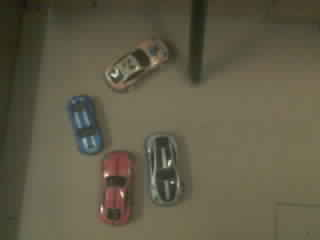Car: (105, 40, 168, 91), (144, 133, 183, 205), (99, 150, 134, 223), (67, 94, 103, 154)
